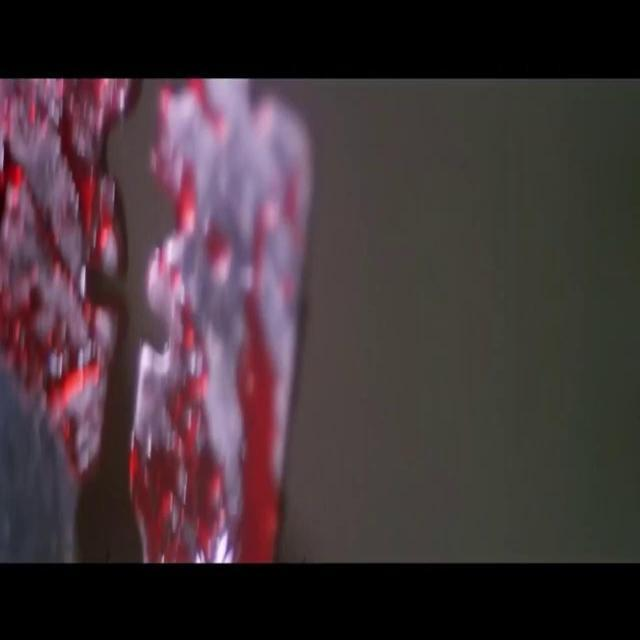flood: (0, 79, 284, 567)
